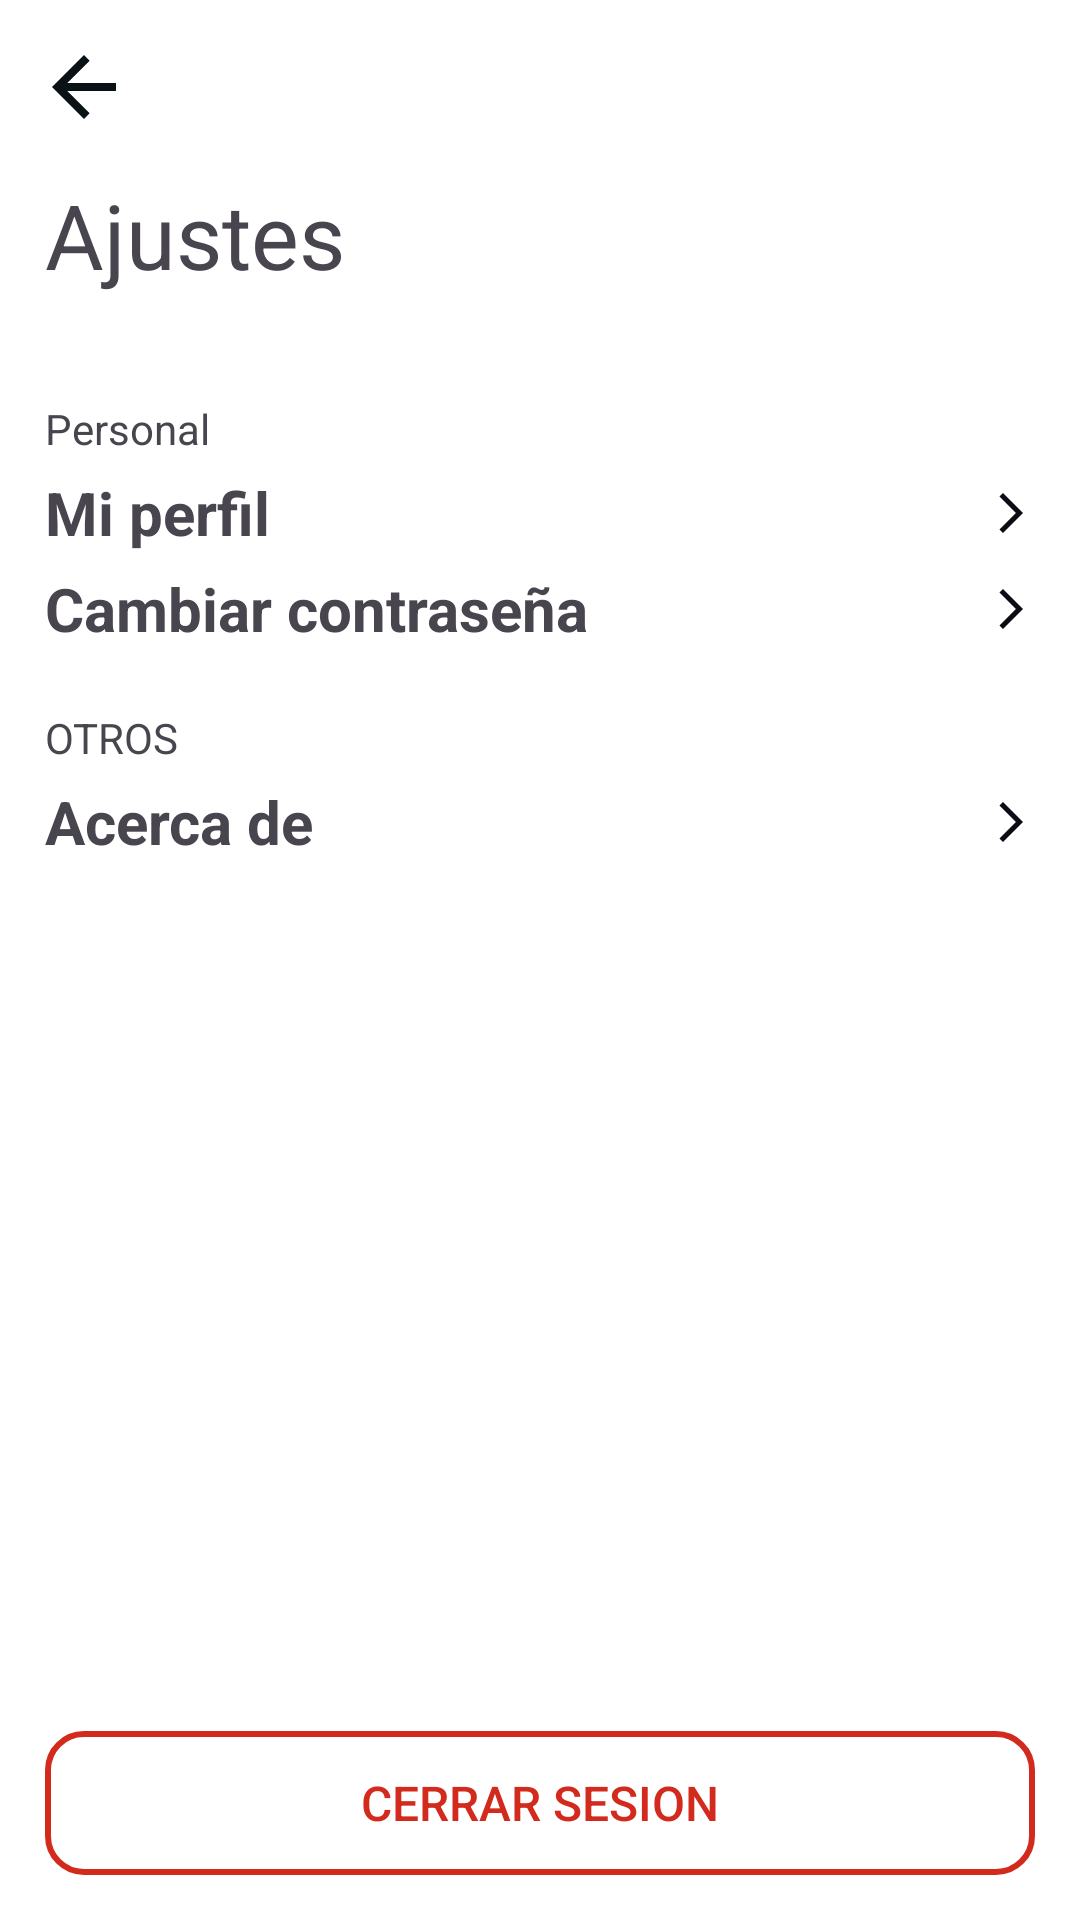

Icon click points for this 1080px x 1920px phone screenshot, format (x,y):
arrow right: (1011,513), (1011,609), (1011,822)
